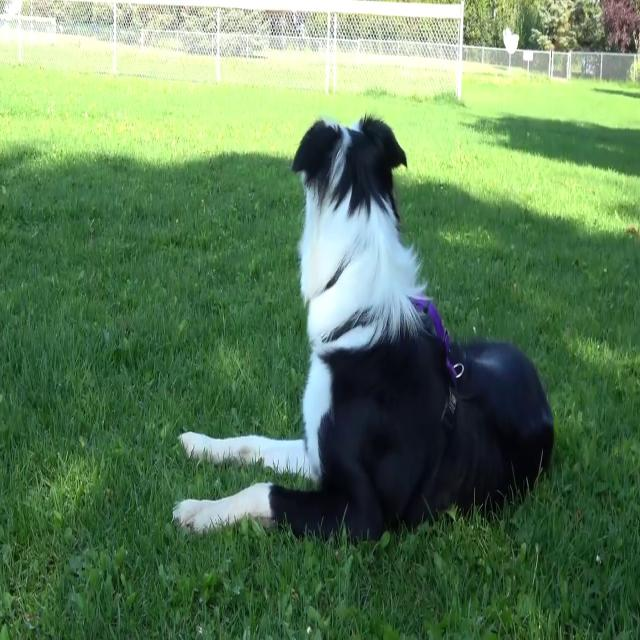Dog: (172, 112, 554, 536)
